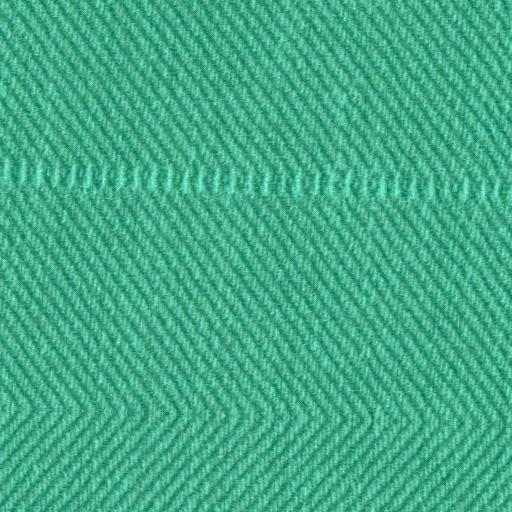slub: (0, 142, 511, 222)
